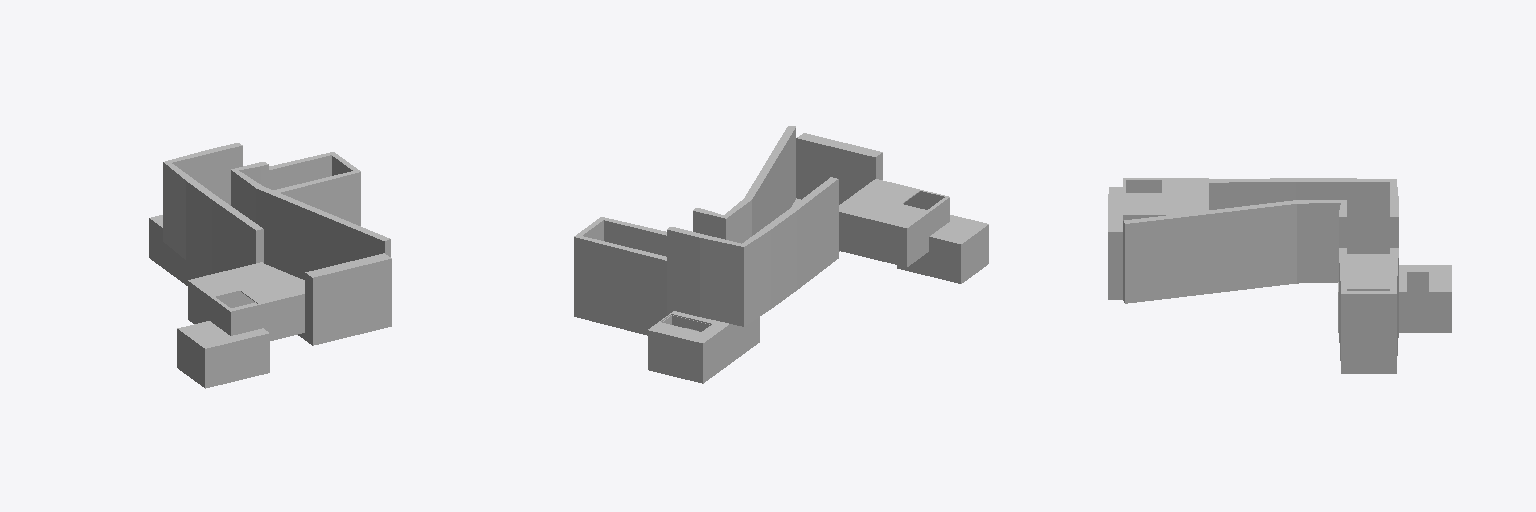
The model's file is FullMap.obj.
The picture shows the model from 3 angles: view 1: azimuth 30°, elevation 25°; view 2: azimuth 150°, elevation 25°; view 3: azimuth 270°, elevation 25°; orthographic projection.
Parts seen in each view (by area): view 1: ResultMap_Map_MESH; view 2: ResultMap_Map_MESH; view 3: ResultMap_Map_MESH.
Part boxes in pixels (x1,y1,x2,y2): ResultMap_Map_MESH: (149,143,391,388); ResultMap_Map_MESH: (574,126,988,383); ResultMap_Map_MESH: (1108,178,1451,373).
Bounding box in the file's own units: 36.41 × 15.3 × 39.81.